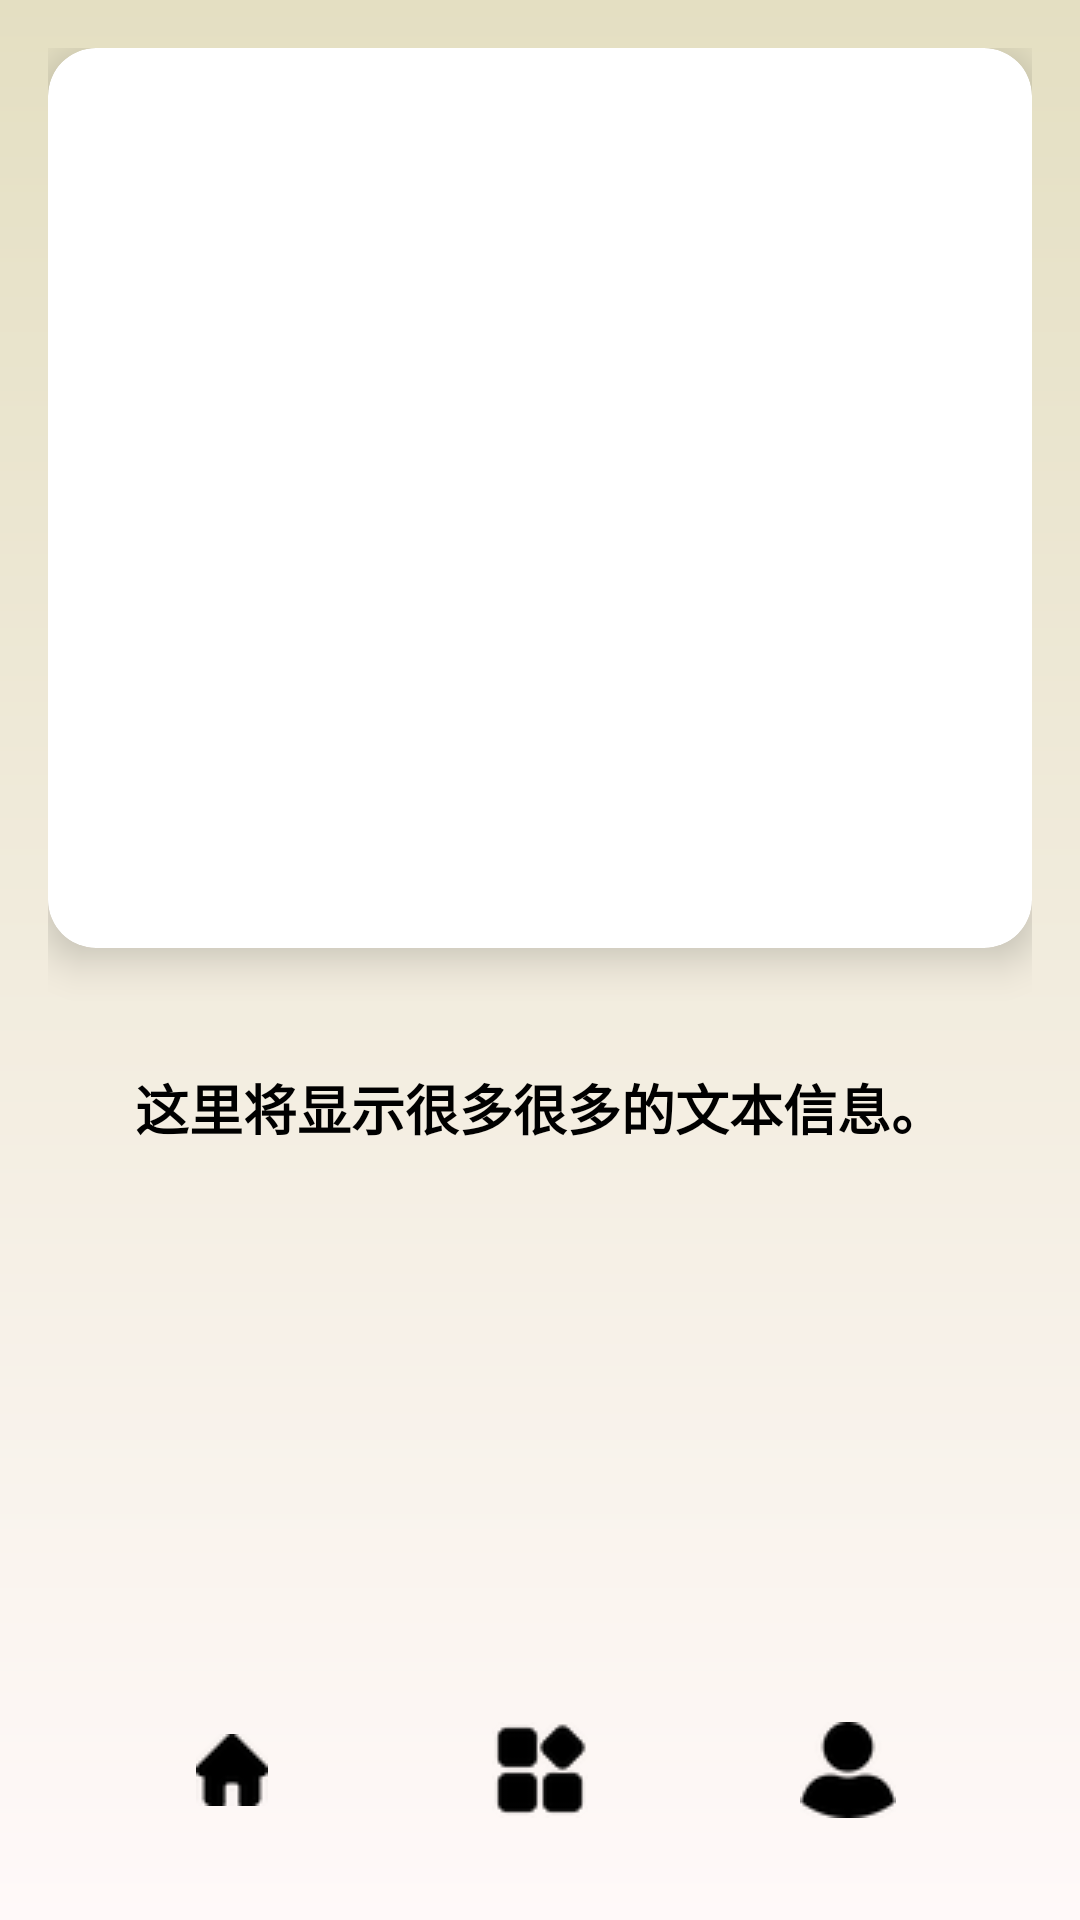

Locate icon controls on the screen. Image size 1080x1920, boxes as {"x1": x1, "y1": y1, "x2": x2, "y2": y2}.
app: {"x1": 497, "y1": 1724, "x2": 586, "y2": 1813}
home: {"x1": 196, "y1": 1734, "x2": 268, "y2": 1806}
user: {"x1": 800, "y1": 1722, "x2": 896, "y2": 1818}
